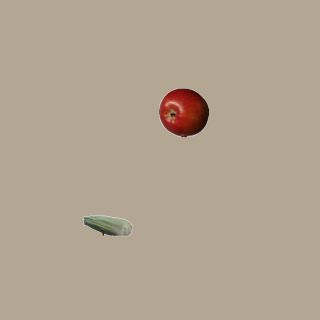Apple Braeburn: (158, 87, 208, 137)
Corn Husk: (82, 200, 132, 250)
